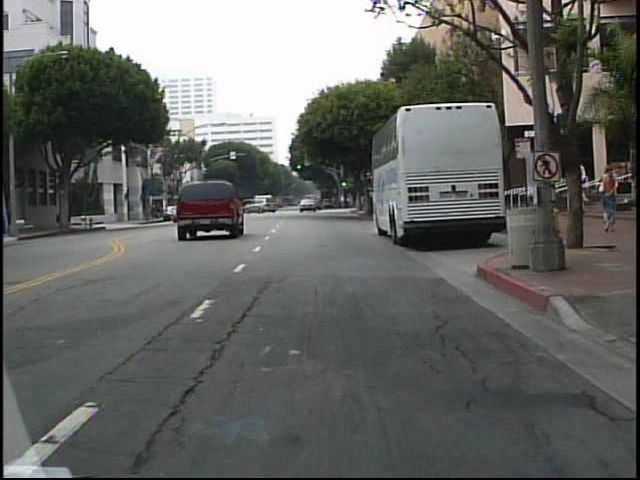person: (594, 163, 623, 238)
